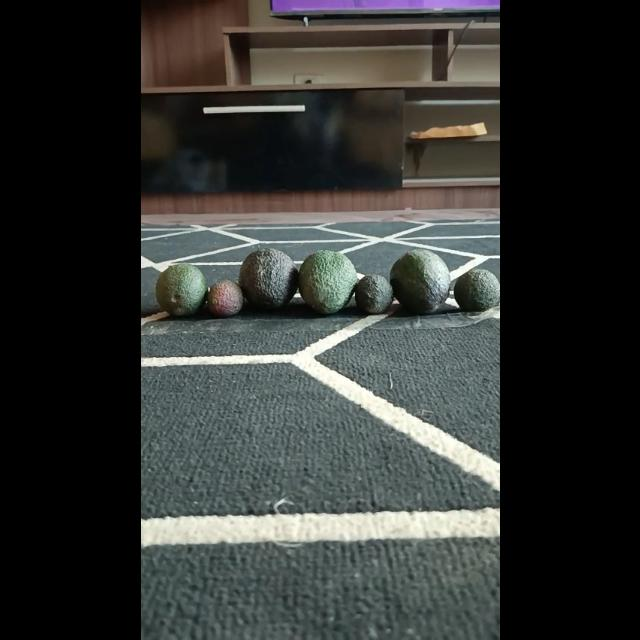Primera: (390, 248, 450, 314), (297, 250, 357, 314)
Segunda: (154, 262, 208, 318)
Tercera: (237, 247, 297, 311), (452, 267, 500, 313), (354, 274, 394, 314), (204, 278, 242, 318)
